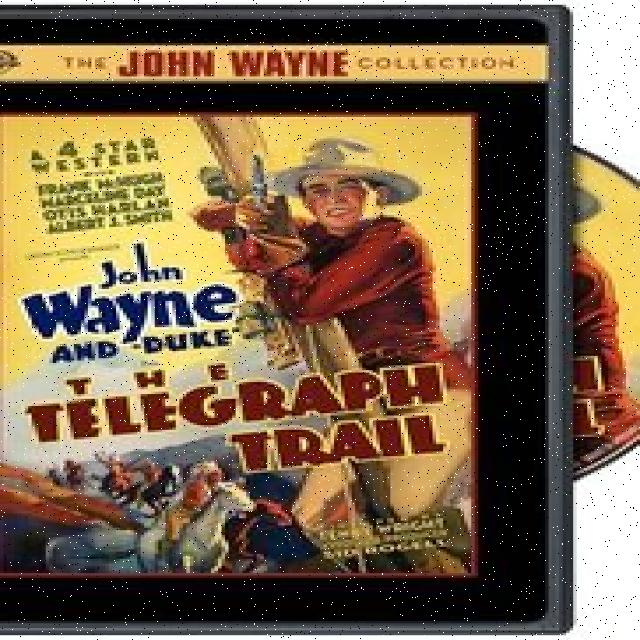movie-judul: (25, 368, 459, 468)
picture: (0, 114, 473, 579)
